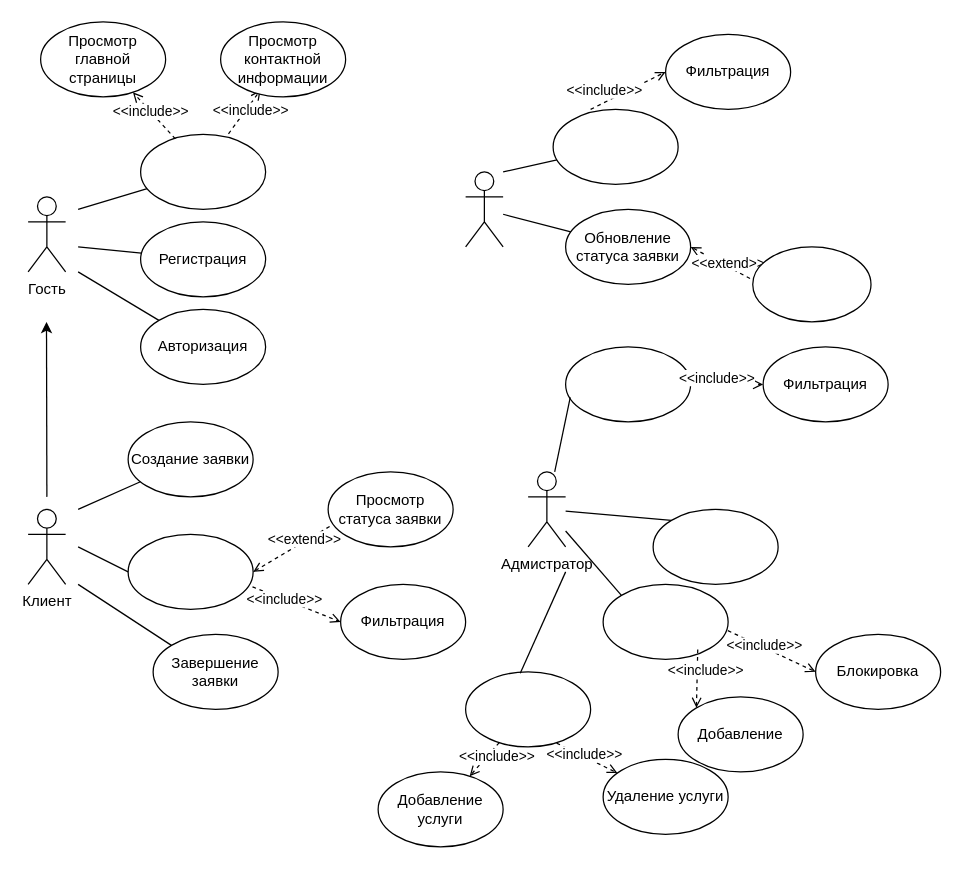
Image size: 963x869. Some labels were removed from this diagram. The centre of each missing label's shape, as x and y in pixels:
"Добавление комментариев" belongs at point (811, 284).
"Мастер" belongs at point (483, 209).
"Назначение мастеров" belongs at point (715, 546).
"Просмотр" belongs at point (202, 171).
"Просмотр всех заявок" belongs at point (627, 384).
"Просмотр заявок" belongs at point (190, 571).
"Просмотр назначенных заявок" belongs at point (615, 146).
"Управление пользователями" belongs at point (665, 621).
"Управление списком услуг" belongs at point (527, 709).
